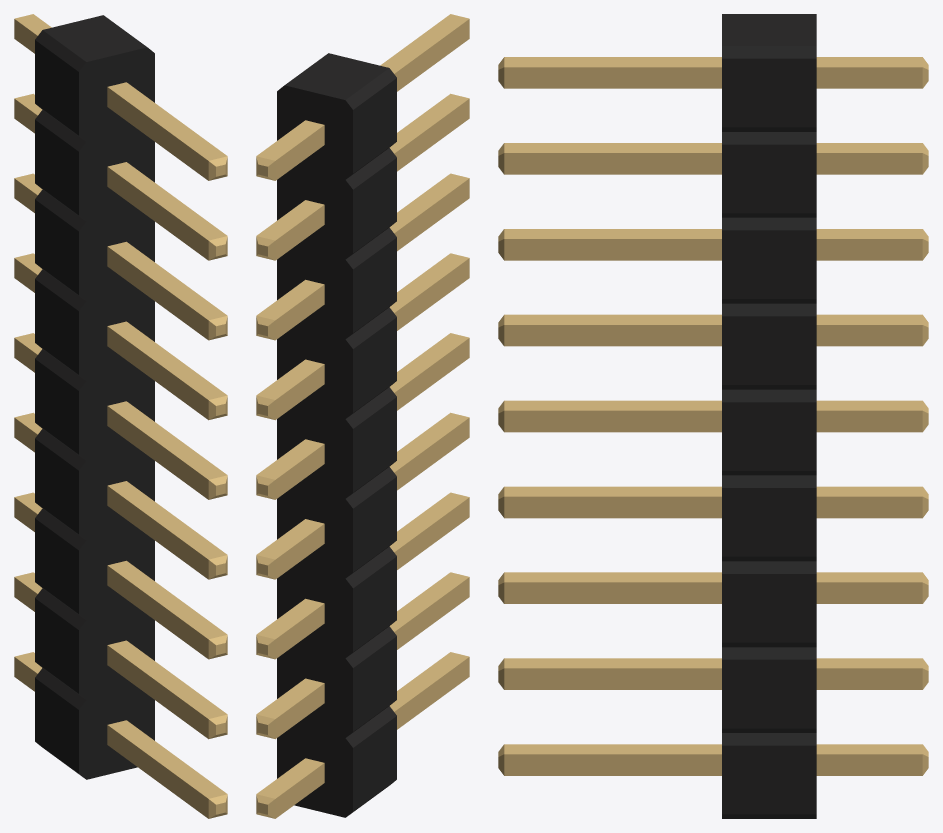
Rendered from header-1x09.glb.
The picture shows the model from 3 angles, left to right: view 1: azimuth 30°, elevation 25°; view 2: azimuth 150°, elevation 25°; view 3: azimuth 270°, elevation 25°; orthographic projection. The views are drawn at different scales.
Parts seen in each view (by area): view 1: IC-BODY-EPOXY-04, PIN-02; view 2: IC-BODY-EPOXY-04, PIN-02; view 3: PIN-02, IC-BODY-EPOXY-04.
Part boxes in pixels (box(x1,y1,x2,y2)): IC-BODY-EPOXY-04: box(35, 15, 154, 779); PIN-02: box(14, 14, 227, 818); IC-BODY-EPOXY-04: box(277, 53, 396, 817); PIN-02: box(256, 14, 469, 818); PIN-02: box(498, 57, 928, 775); IC-BODY-EPOXY-04: box(722, 14, 816, 818).
Size of the model in its own units: 2.54 by 22.86 by 11.54.
